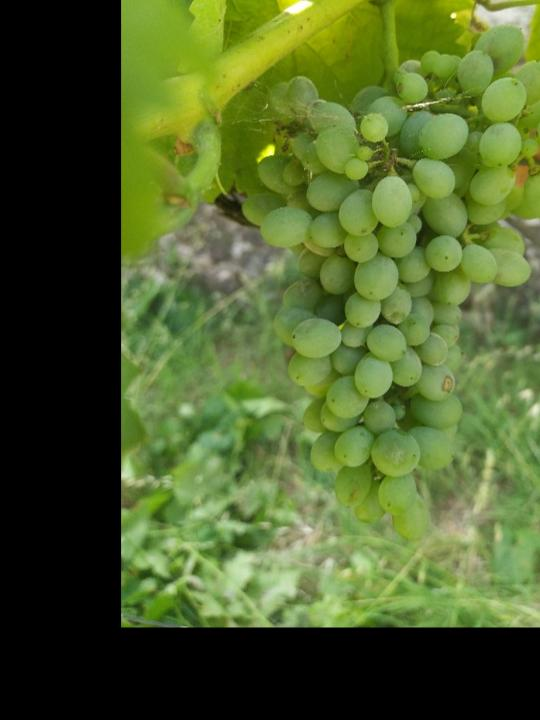grape: (244, 23, 540, 547)
